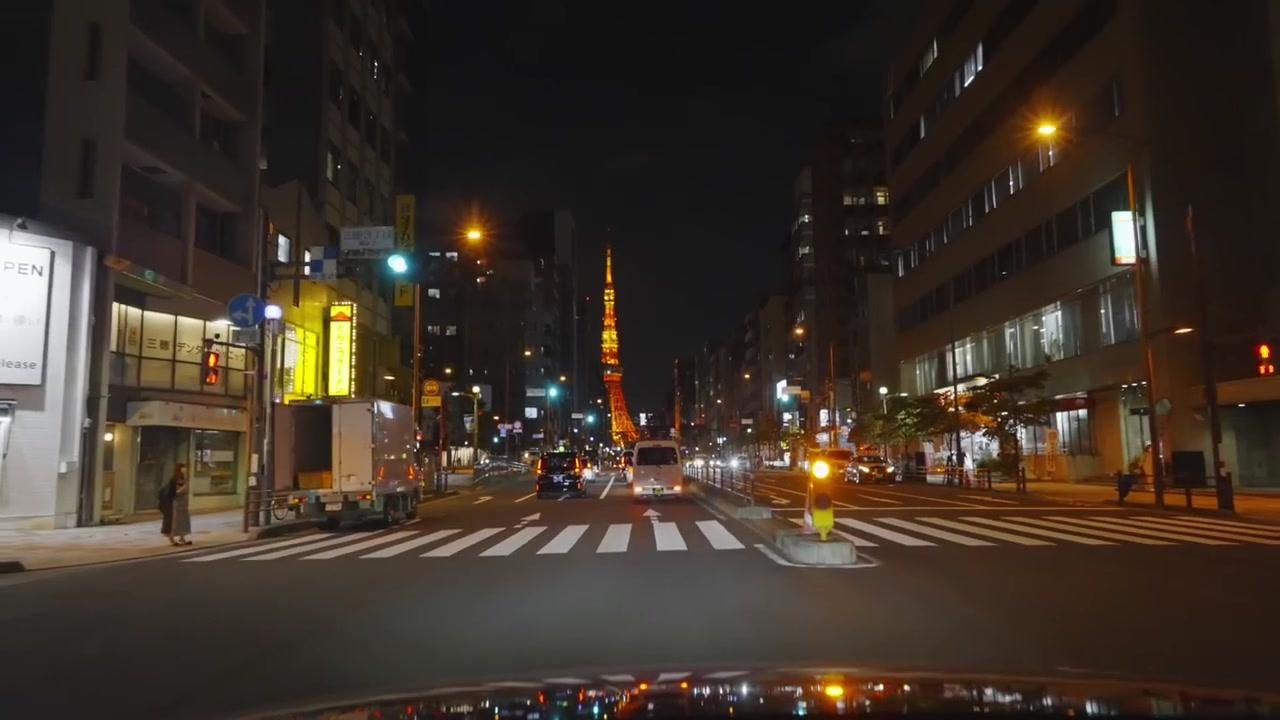bus: (630, 439, 685, 501)
car: (535, 449, 585, 499), (847, 457, 893, 484), (473, 458, 525, 480), (843, 463, 863, 483)
person: (160, 462, 193, 545)
traffic light: (202, 342, 222, 390), (1253, 341, 1277, 375), (385, 252, 412, 279), (548, 380, 559, 404)
truck: (284, 397, 425, 529)
